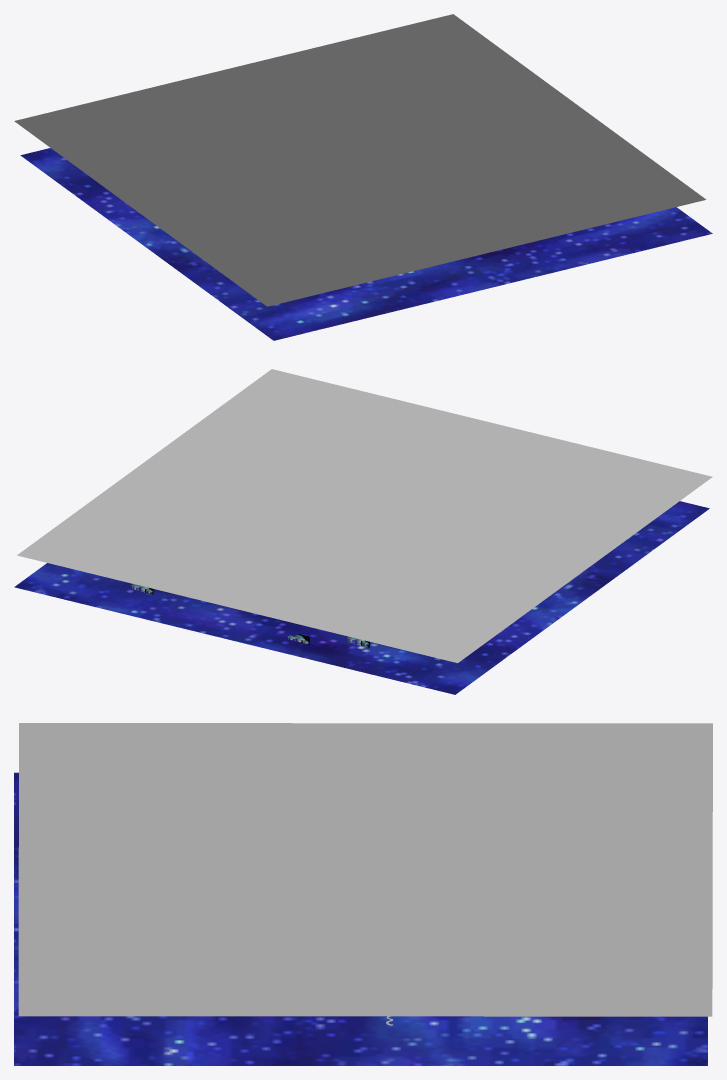
3 renders of one model, top to bottom at view 1: azimuth 30°, elevation 25°; view 2: azimuth 150°, elevation 25°; view 3: azimuth 270°, elevation 25°, orthographic. The views are drawn at different scales.
Parts seen in each view (by area): view 1: Joint_0_Object_20, Joint_0_Object_16; view 2: Joint_0_Object_20, Joint_0_Object_16; view 3: Joint_0_Object_20, Joint_0_Object_16.
Part boxes in pixels (x1,y1,x2,y2): Joint_0_Object_20: (14, 14, 706, 306); Joint_0_Object_16: (20, 148, 712, 340); Joint_0_Object_20: (17, 369, 712, 663); Joint_0_Object_16: (14, 501, 709, 694); Joint_0_Object_20: (18, 723, 712, 1016); Joint_0_Object_16: (14, 772, 707, 1065).
Size of the model in its own units: 20214 by 1783 by 20146.
Materials: 21 (21 with a texture image).
